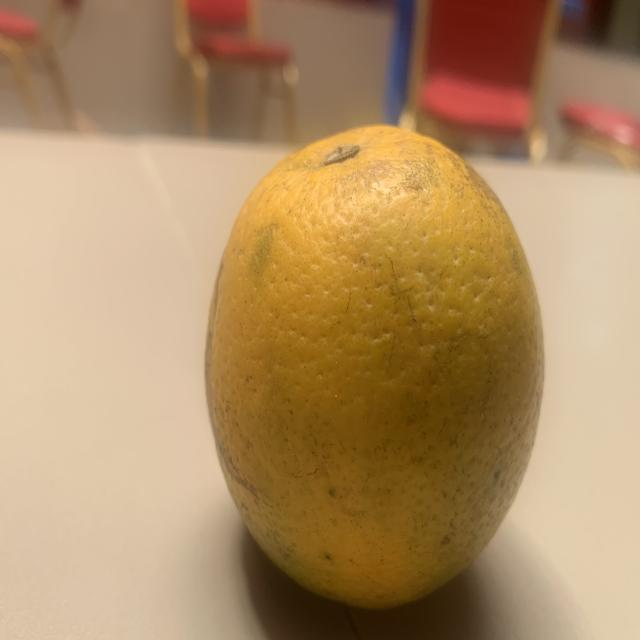Ripe orange: (200, 112, 565, 616)
